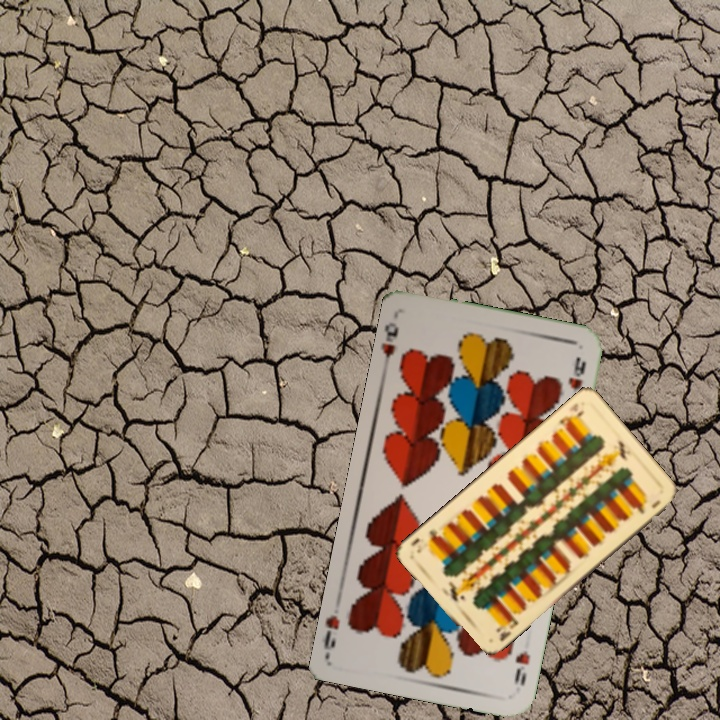E10: (492, 611, 521, 644), (555, 406, 587, 431)
H9: (379, 318, 401, 371), (510, 646, 533, 688)
